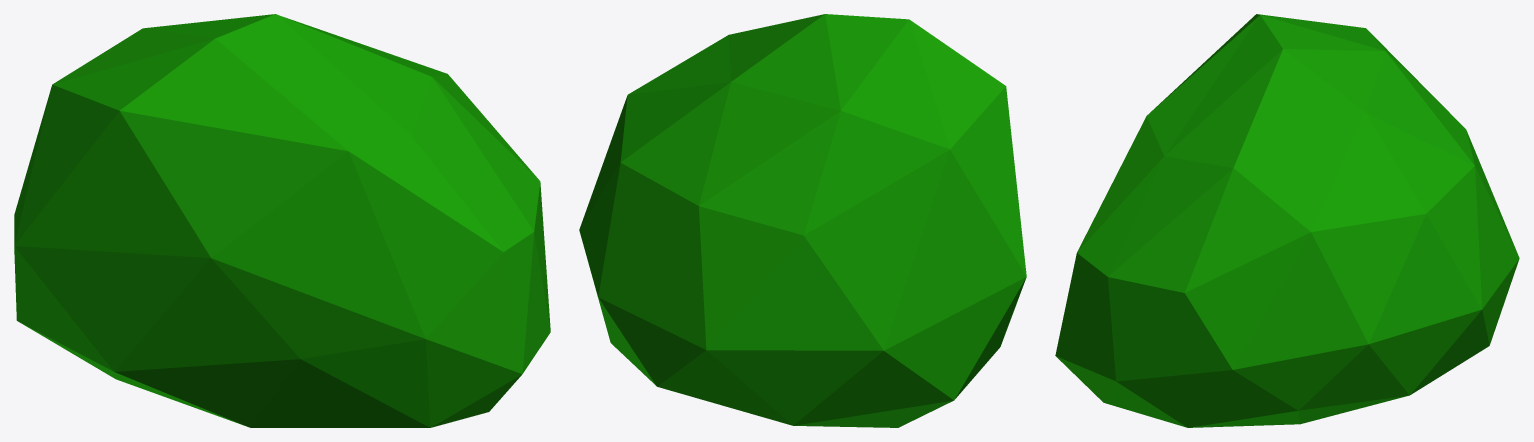
File: Bush 1.fbx
3 renders of one model, left to right at view 1: azimuth 30°, elevation 25°; view 2: azimuth 150°, elevation 25°; view 3: azimuth 270°, elevation 25°, orthographic. The views are drawn at different scales.
Visible parts, largest first — view 1: Bush1; view 2: Bush1; view 3: Bush1.
Part boxes in pixels (x1,y1,x2,y2): Bush1: [14, 14, 550, 427]; Bush1: [579, 14, 1026, 427]; Bush1: [1055, 14, 1519, 427].
Size of the model in its own units: 1.6 by 1.3 by 1.58.
